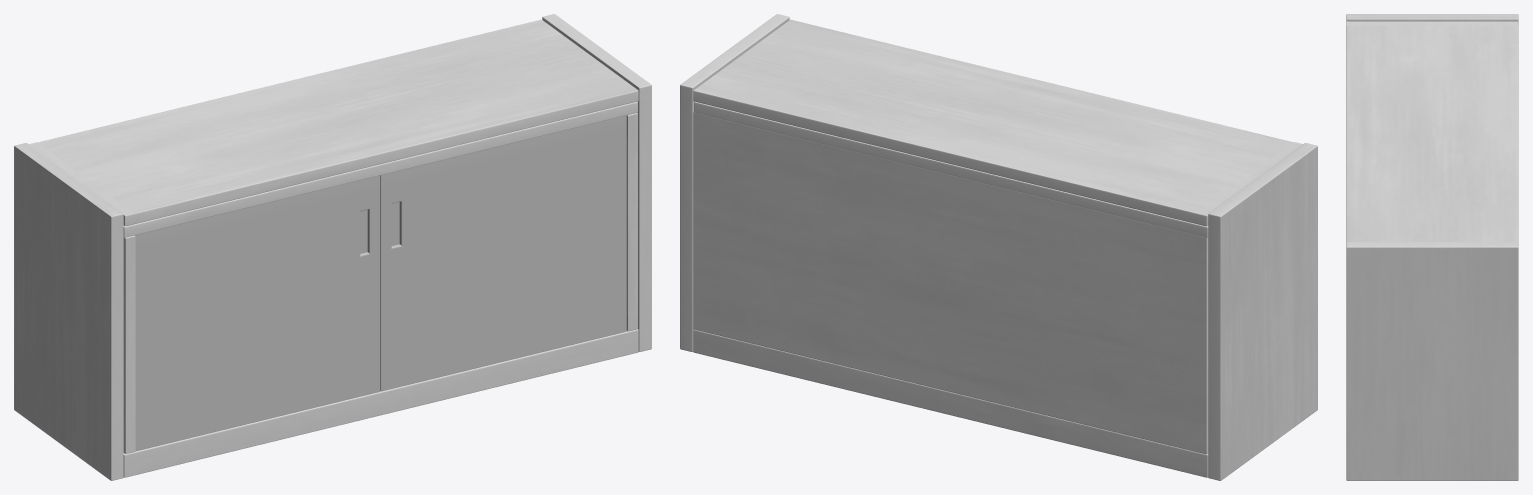
Rendered from ShoeCase.fbx.
3 views of the same model, side by side, from view 1: azimuth 30°, elevation 25°; view 2: azimuth 150°, elevation 25°; view 3: azimuth 270°, elevation 25° (orthographic). The views are drawn at different scales.
Parts seen in each view (by area): view 1: Estanteria, Estanteria.001, Estanteria.002; view 2: Estanteria; view 3: Estanteria.
Part boxes in pixels (x1,y1,x2,y2): Estanteria: [14, 14, 651, 480]; Estanteria.001: [380, 115, 626, 391]; Estanteria.002: [135, 175, 380, 451]; Estanteria: [680, 14, 1317, 480]; Estanteria: [1346, 14, 1518, 480].
Size of the model in its own units: 139 by 65.16 by 43.47.
